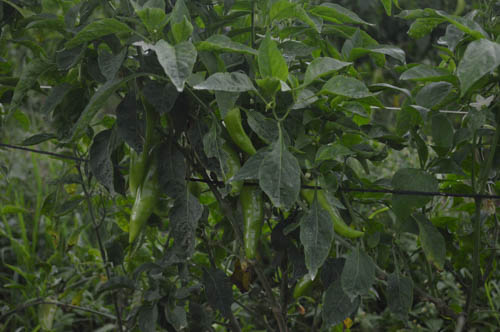ChiliPepper: (308, 182, 365, 237), (129, 169, 162, 250), (122, 112, 150, 193), (239, 180, 264, 256), (222, 111, 257, 155), (219, 146, 246, 195)
